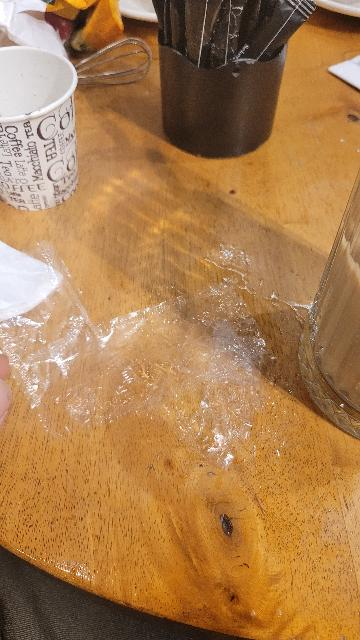Kagit: (0, 35, 90, 216)
